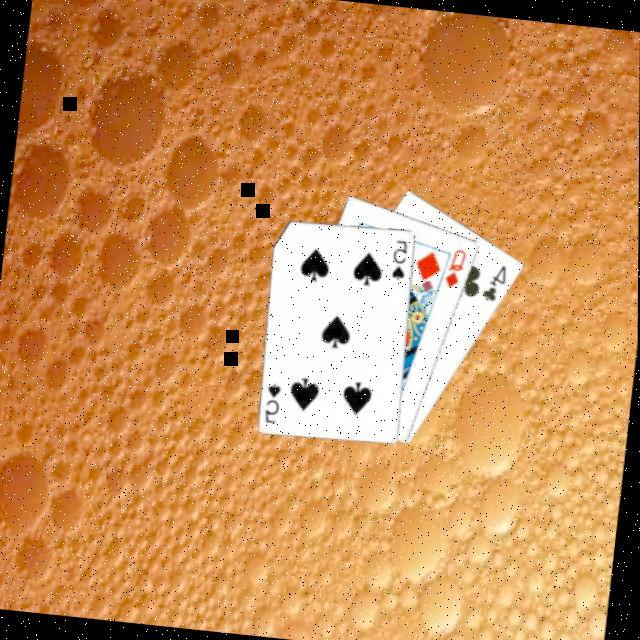4C: (478, 260, 510, 308)
5S: (386, 237, 410, 285), (260, 380, 284, 428)
QD: (439, 246, 470, 294)
